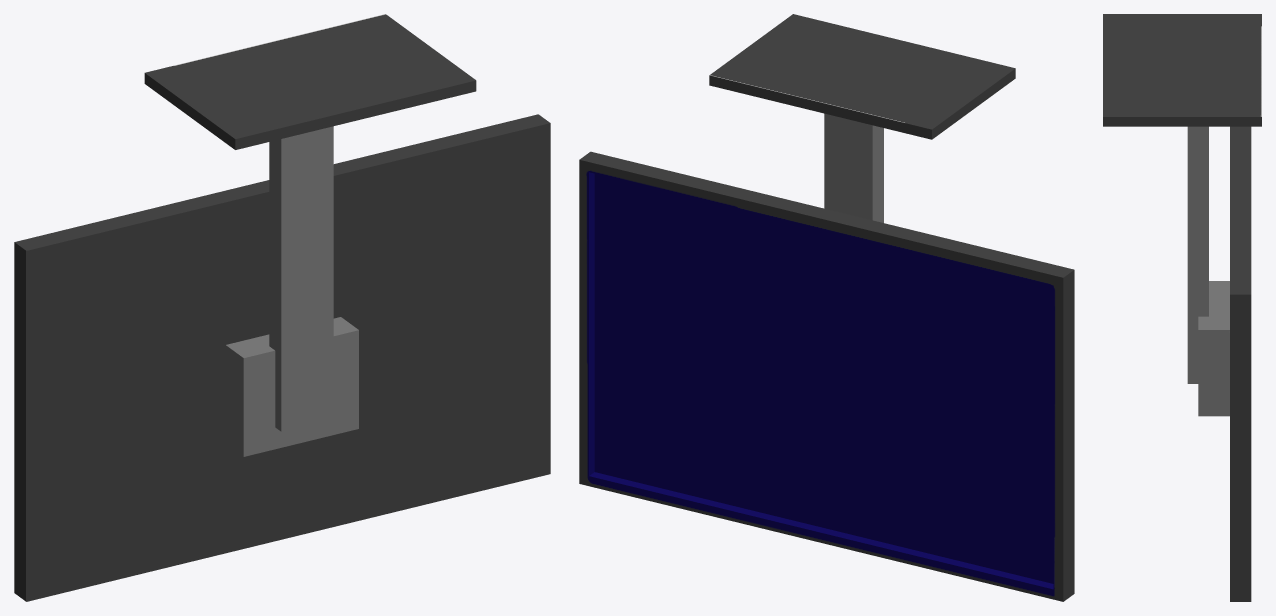
The picture shows the model from 3 angles, left to right: view 1: azimuth 30°, elevation 25°; view 2: azimuth 150°, elevation 25°; view 3: azimuth 270°, elevation 25°; orthographic projection. The views are drawn at different scales.
Parts seen in each view (by area): view 1: Monitor_01_snaps001; view 2: Monitor_01_snaps001; view 3: Monitor_01_snaps001.
Part boxes in pixels (<box>): Monitor_01_snaps001: <box>14,14,550,601</box>; Monitor_01_snaps001: <box>579,14,1074,601</box>; Monitor_01_snaps001: <box>1103,14,1261,601</box>.
Size of the model in its own units: 64.93 by 19.48 by 57.14.
Materials: 1 (1 with a texture image).
